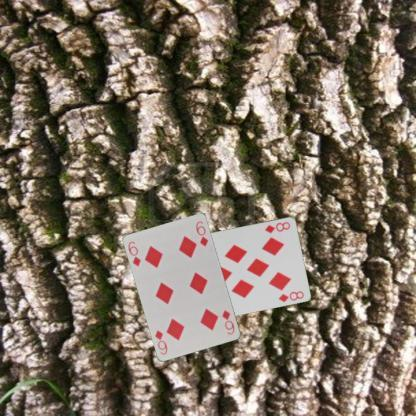6d: (219, 307, 236, 336), (126, 238, 142, 268)
8d: (262, 219, 292, 234)
